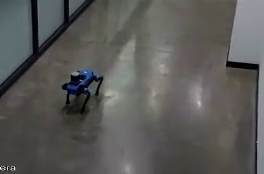robot dog: (60, 67, 104, 116)
